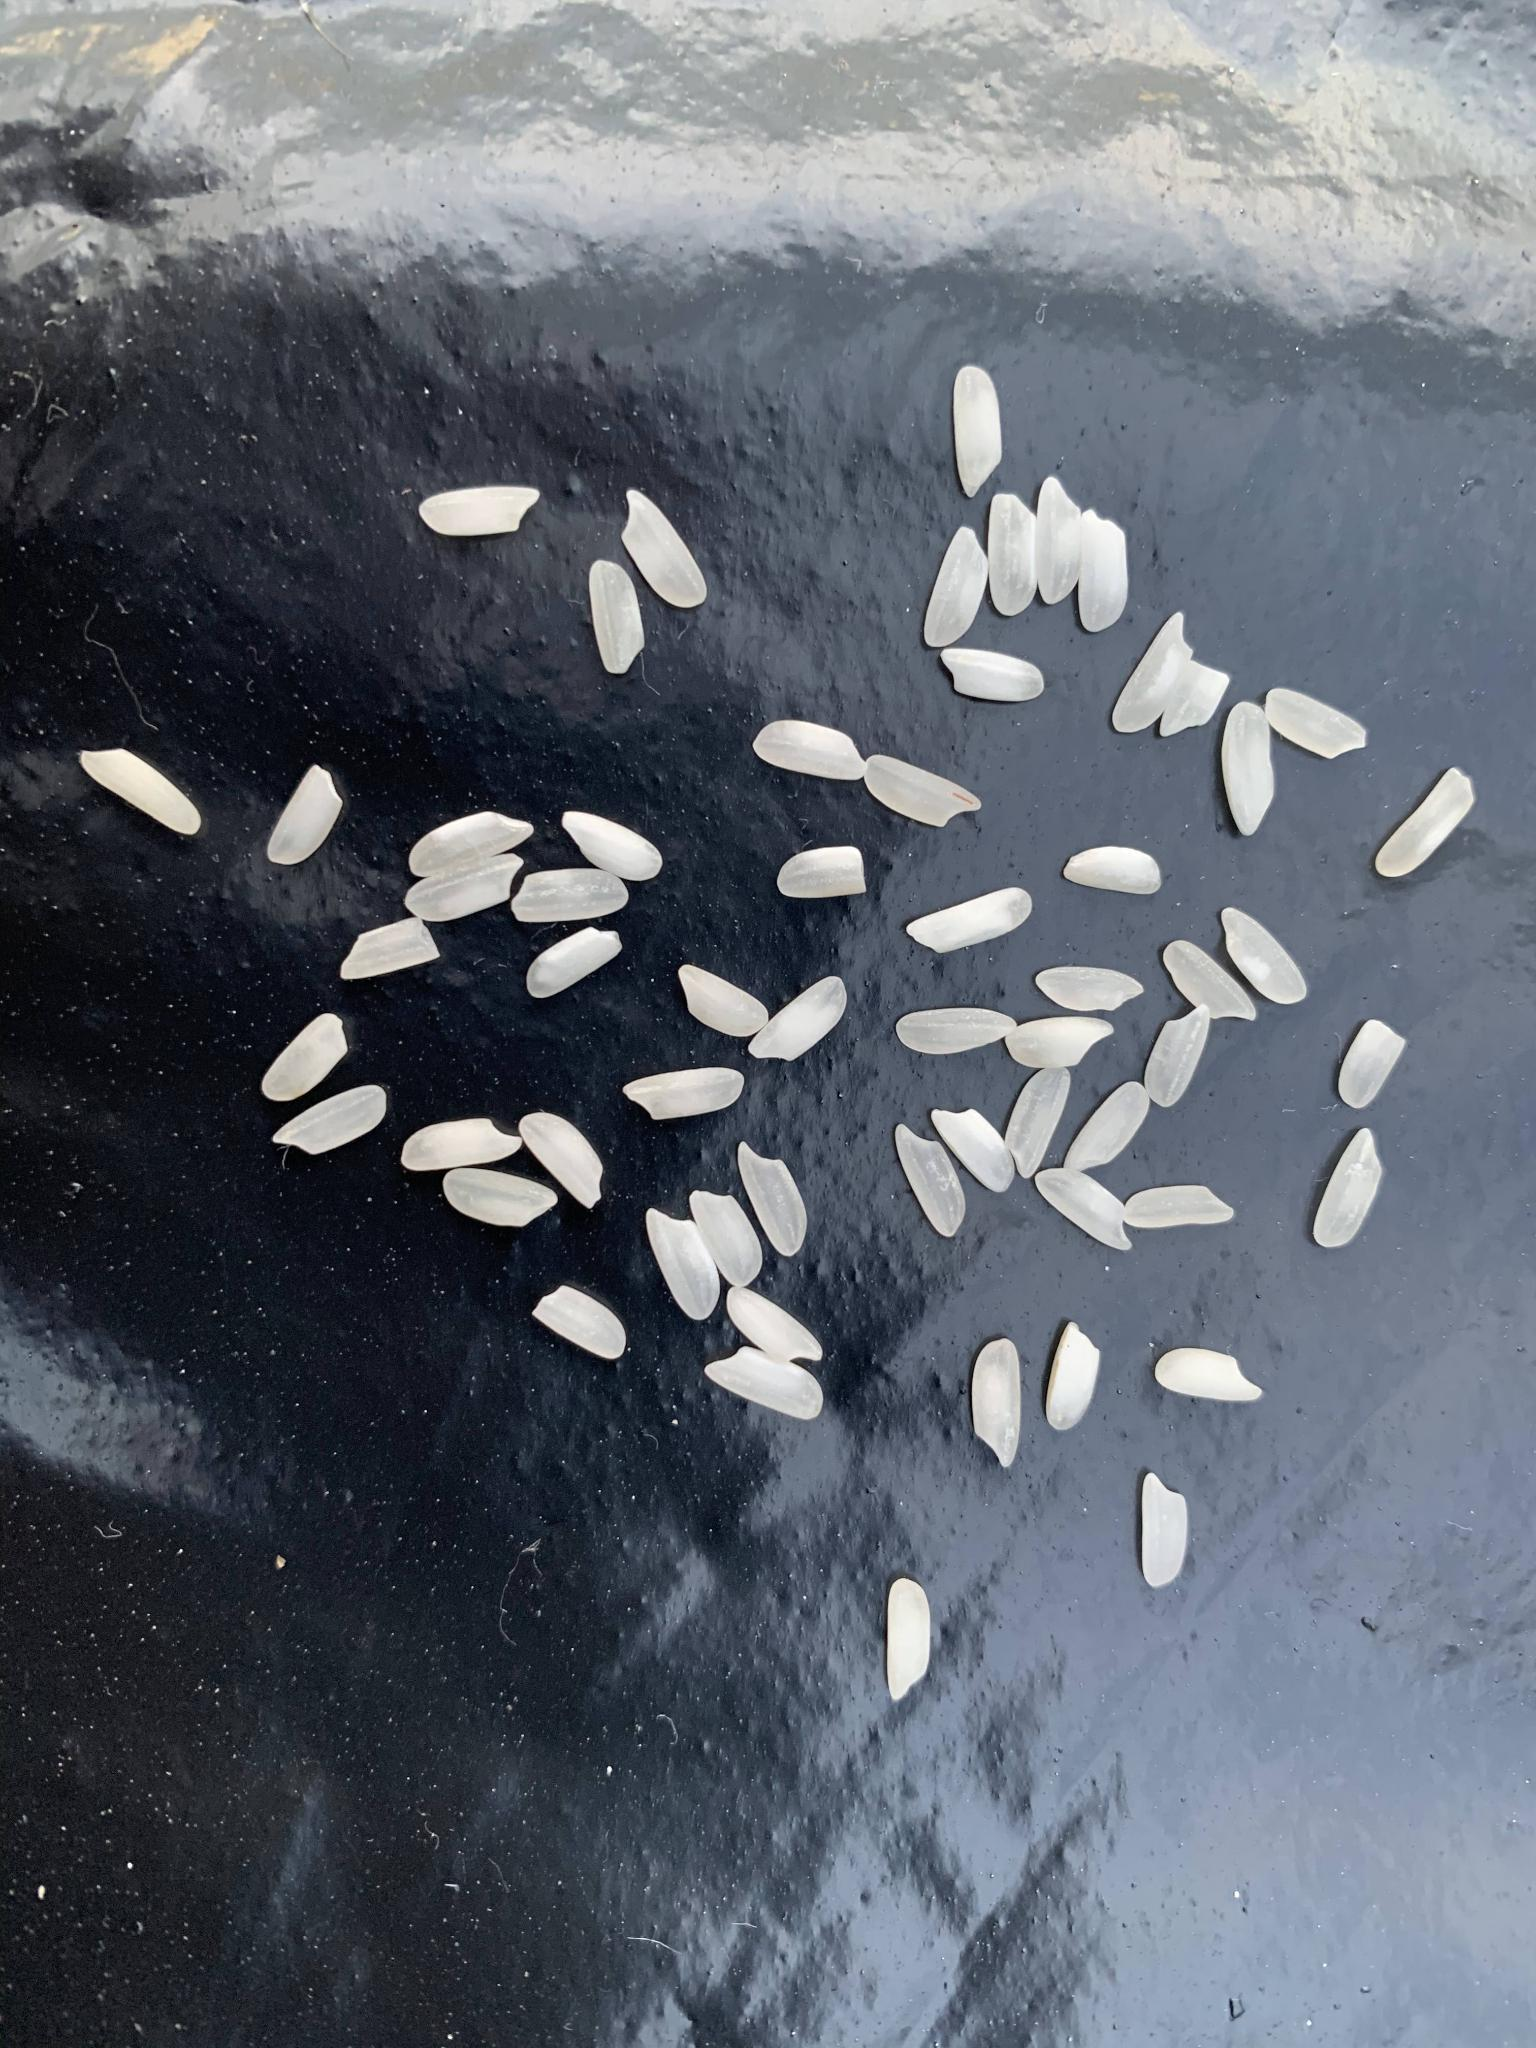rice: (1376, 768, 1475, 877), (81, 748, 203, 835), (621, 489, 707, 608), (1112, 611, 1196, 731), (703, 1345, 823, 1421), (904, 885, 1033, 955), (749, 974, 849, 1063), (1220, 906, 1307, 1006), (645, 1208, 721, 1322), (1312, 1129, 1383, 1248), (865, 755, 981, 827), (410, 811, 534, 879), (520, 1111, 605, 1209), (921, 526, 987, 651), (273, 1084, 387, 1156), (894, 1126, 966, 1238), (1060, 1080, 1149, 1172), (736, 1142, 807, 1256), (405, 855, 528, 921), (1034, 1169, 1133, 1251), (1163, 940, 1257, 1026), (266, 763, 344, 864), (261, 1013, 347, 1101), (1267, 685, 1367, 761), (1007, 1068, 1073, 1180), (1142, 1003, 1212, 1109), (561, 810, 665, 880), (532, 1284, 628, 1359), (444, 1166, 558, 1229), (728, 1288, 824, 1363), (1221, 701, 1275, 835), (750, 721, 866, 782), (931, 1109, 1016, 1192), (402, 1113, 523, 1171), (691, 1190, 762, 1288), (528, 927, 623, 998), (679, 964, 770, 1039), (337, 918, 444, 980), (621, 1068, 745, 1121), (589, 561, 645, 676), (954, 366, 1002, 498), (973, 1335, 1020, 1467), (418, 485, 541, 535), (1079, 508, 1128, 634), (511, 871, 629, 922), (1034, 477, 1081, 606), (1046, 1322, 1100, 1432), (987, 492, 1036, 616), (1339, 1019, 1405, 1109), (895, 1008, 1016, 1055), (1158, 660, 1229, 739), (941, 648, 1046, 701), (1154, 1348, 1262, 1400), (887, 1579, 933, 1701), (1142, 1471, 1187, 1592), (1007, 1018, 1115, 1068), (1062, 847, 1162, 898), (1034, 964, 1144, 1011), (776, 847, 866, 901), (1125, 1185, 1234, 1227)
